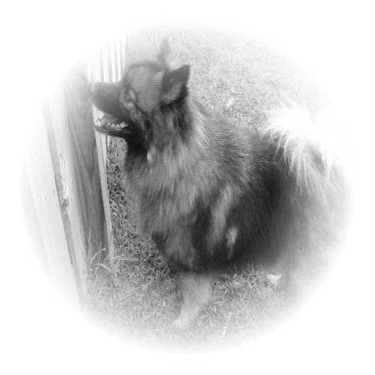dog: (65, 23, 357, 340)
